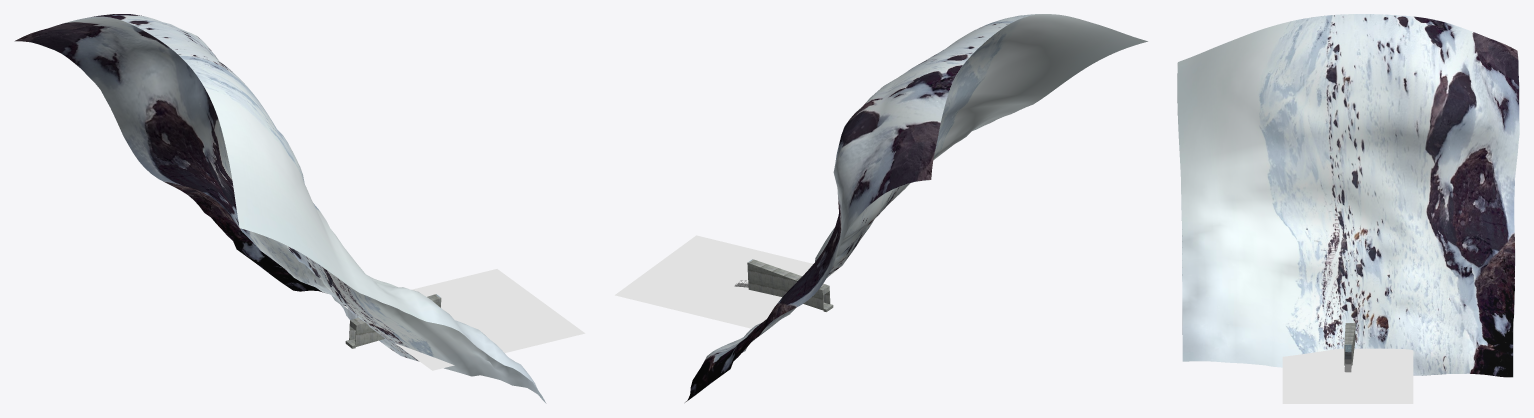
Rendered from escenario final.glb.
3 renders of one model, left to right at view 1: azimuth 30°, elevation 25°; view 2: azimuth 150°, elevation 25°; view 3: azimuth 270°, elevation 25°, orthographic. The views are drawn at different scales.
Visible parts, largest first — view 1: Plane.001, Piso.008-col, Piso.009-col, Piso.010-col, Piso.002-col, Piso.004-col, Piso.007-col, Object_12_/Concrete_Simple_G01_4m_0-col; view 2: Plane.001, Object_12_/Concrete_Simple_G01_4m_0-col, Piso.008-col, Piso.004-col, Piso.009-col, Piso.010-col, Piso.005-col, Piso.002-col, Piso.007-col; view 3: Plane.001, Piso.005-col, Piso.007-col, Piso.010-col, Piso.004-col, Piso.008-col, Piso.009-col, Piso.002-col, Piso.001-col, Piso.006-col, Object_12_/Concrete_Simple_G01_4m_0-col.
Part boxes in pixels (x1=…): Plane.001: x1=14, y1=14, x2=546, y2=403; Piso.008-col: x1=476, y1=290, x2=555, y2=324; Piso.009-col: x1=446, y1=269, x2=526, y2=302; Piso.010-col: x1=505, y1=312, x2=585, y2=345; Piso.002-col: x1=444, y1=303, x2=504, y2=330; Piso.004-col: x1=411, y1=281, x2=475, y2=310; Piso.007-col: x1=480, y1=324, x2=533, y2=352; Object_12_/Concrete_Simple_G01_4m_0-col: x1=345, y1=294, x2=441, y2=348; Plane.001: x1=685, y1=14, x2=1147, y2=402; Object_12_/Concrete_Simple_G01_4m_0-col: x1=747, y1=259, x2=833, y2=311; Piso.008-col: x1=642, y1=255, x2=715, y2=286; Piso.004-col: x1=662, y1=287, x2=735, y2=318; Piso.009-col: x1=615, y1=275, x2=688, y2=306; Piso.010-col: x1=669, y1=235, x2=742, y2=266; Piso.005-col: x1=709, y1=298, x2=773, y2=328; Piso.002-col: x1=689, y1=267, x2=748, y2=298; Piso.007-col: x1=716, y1=247, x2=790, y2=274; Plane.001: x1=1177, y1=14, x2=1519, y2=377; Piso.005-col: x1=1370, y1=348, x2=1413, y2=367; Piso.007-col: x1=1282, y1=367, x2=1326, y2=385; Piso.010-col: x1=1282, y1=385, x2=1326, y2=403; Piso.004-col: x1=1370, y1=367, x2=1413, y2=385; Piso.008-col: x1=1326, y1=385, x2=1369, y2=403; Piso.009-col: x1=1370, y1=385, x2=1413, y2=403; Piso.002-col: x1=1326, y1=367, x2=1369, y2=385; Piso.001-col: x1=1326, y1=348, x2=1369, y2=367; Piso.006-col: x1=1282, y1=350, x2=1326, y2=367; Object_12_/Concrete_Simple_G01_4m_0-col: x1=1344, y1=323, x2=1355, y2=365.
Size of the model in its own units: 81.69 by 70.92 by 78.58.
6 materials, 5 textured.
